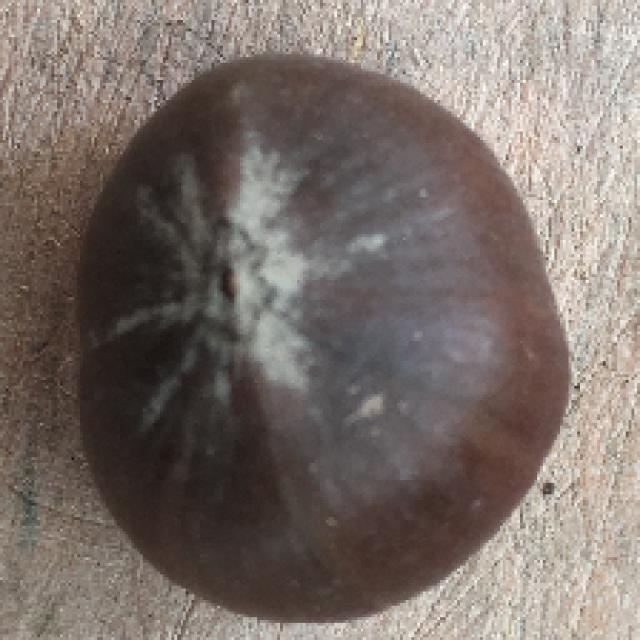damagedHazelnut: (79, 51, 567, 629)
